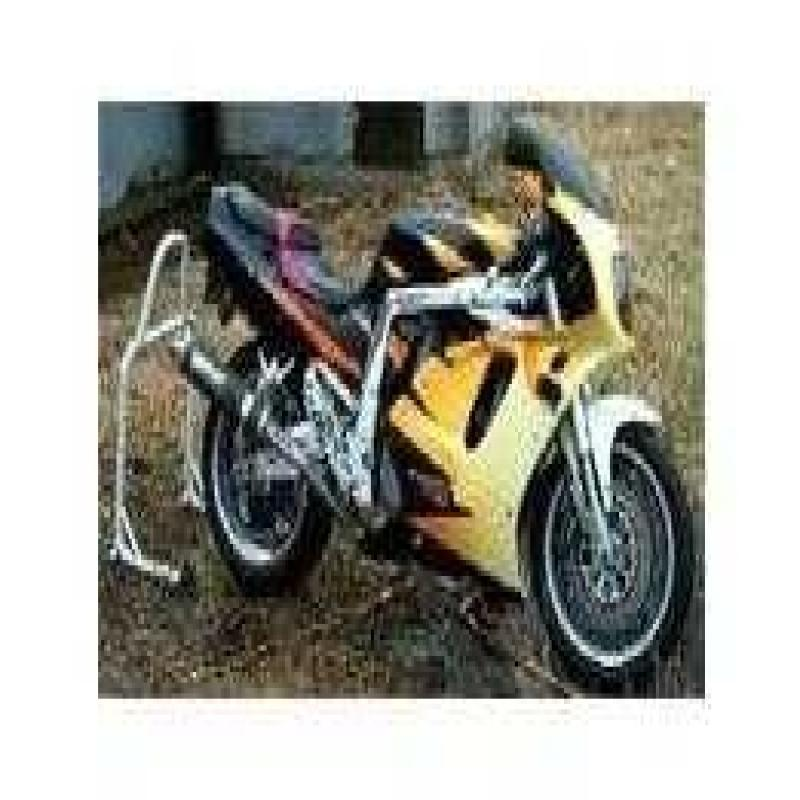bike: (152, 141, 702, 698)
